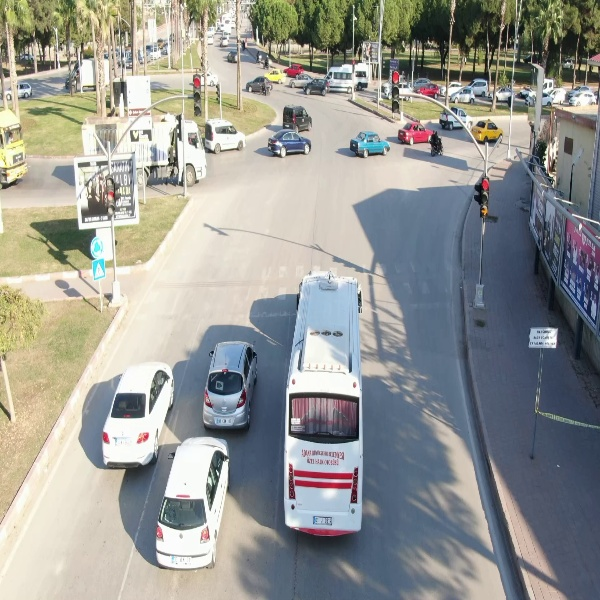car: (282, 271, 367, 540), (152, 432, 233, 573), (101, 360, 176, 469), (200, 339, 260, 432), (203, 118, 248, 154), (265, 128, 314, 159), (350, 129, 393, 159), (470, 118, 502, 146), (302, 75, 332, 99), (449, 85, 477, 105), (487, 85, 516, 103), (569, 90, 597, 106), (416, 82, 441, 99)
